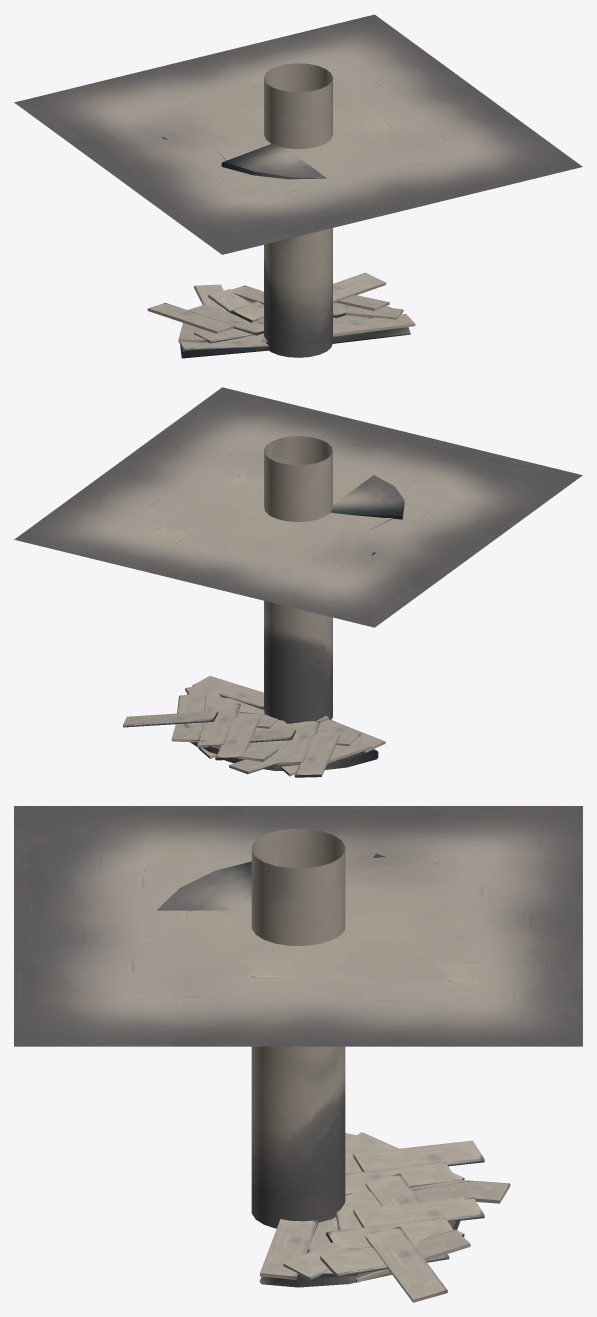
File: exittop.fbx
The picture shows the model from 3 angles, top to bottom: view 1: azimuth 30°, elevation 25°; view 2: azimuth 150°, elevation 25°; view 3: azimuth 270°, elevation 25°; orthographic projection. The views are drawn at different scales.
Visible parts, largest first — view 1: pCube160; view 2: pCube160; view 3: pCube160.
Part boxes in pixels (x1,y1,x2,y2): pCube160: (14, 14, 582, 358); pCube160: (14, 387, 582, 777); pCube160: (14, 806, 582, 1302).
Bounding box in the file's own units: 30.16 × 21.66 × 30.16.
